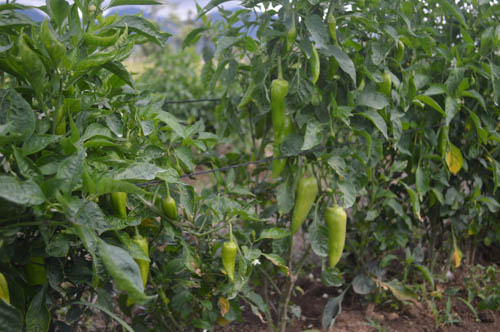ChiliPepper: (320, 207, 346, 271), (128, 239, 151, 309), (267, 121, 291, 185), (290, 176, 317, 229), (270, 76, 288, 134), (217, 240, 239, 278), (110, 191, 128, 217), (162, 201, 180, 215)
